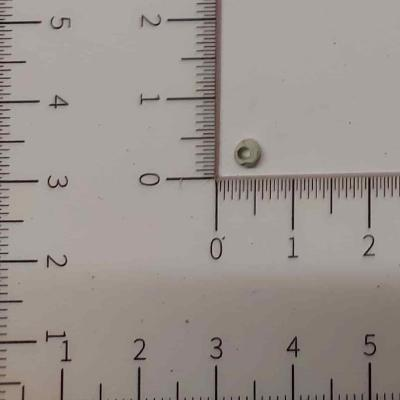archeology: (232, 137, 265, 171)
